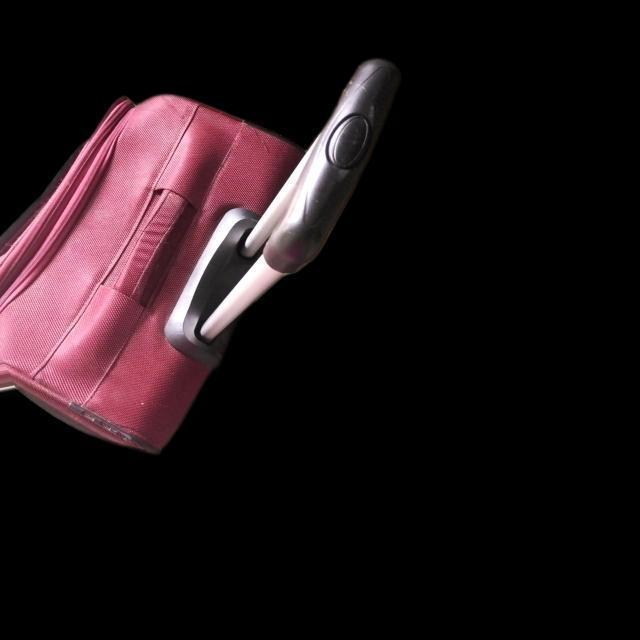Suitcase: (1, 43, 426, 472)
